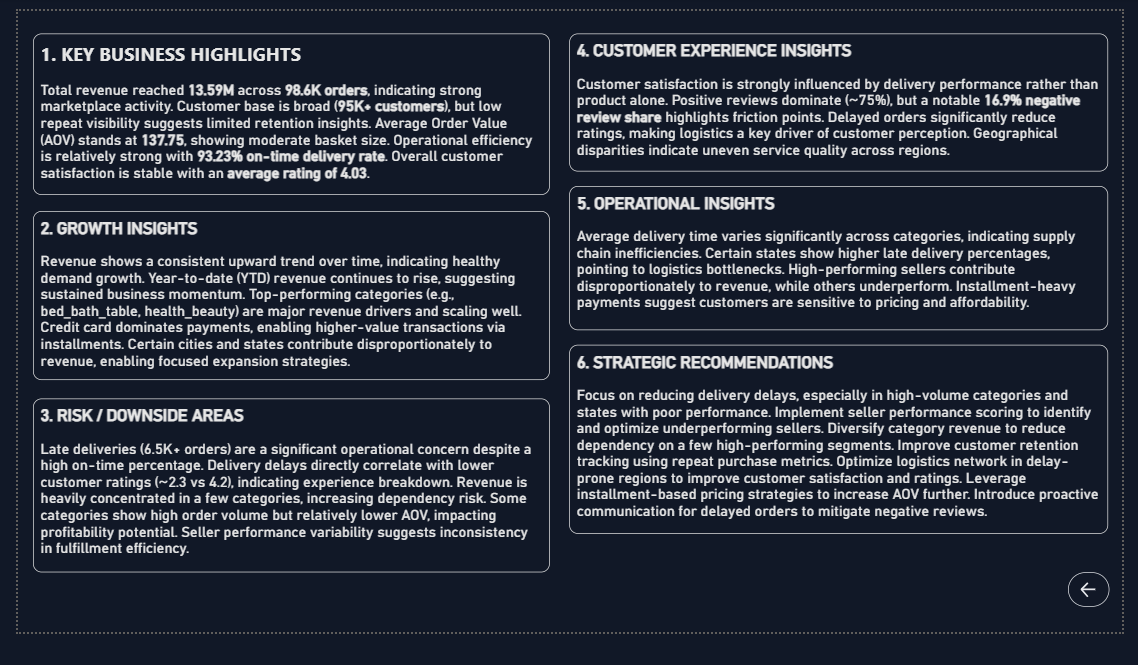

The dashboard page shown, as its layout file describes it:
{"tool":"powerbi","page":{"name":"Conclusion","canvas":[1280,720],"ordinal":10},"visuals":[{"type":"textbox","box":[17.1,25.7,599.2,187.1],"z":0},{"type":"textbox","box":[17.1,232.3,599.2,195.7],"z":1000},{"type":"textbox","box":[17.1,448.8,599.2,201.8],"z":2000},{"type":"textbox","box":[639.5,25.7,624.9,160.2],"z":3000},{"type":"textbox","box":[639.5,203,624.9,167.5],"z":4000},{"type":"textbox","box":[639.5,386.4,624.9,218.9],"z":5000},{"type":"actionButton","box":[1216.7,650.5,47.7,40.4],"z":6000}]}

Visuals, with their boxes on the page's 1280x720 design canvas (x1, y1, x2, y2). These are canvas units, not pixel positions in the 1138x665 screenshot, which may show the page scaled, cropped or inside an application window:
textbox: (x1=17, y1=26, x2=616, y2=213)
textbox: (x1=17, y1=232, x2=616, y2=428)
textbox: (x1=17, y1=449, x2=616, y2=651)
textbox: (x1=640, y1=26, x2=1264, y2=186)
textbox: (x1=640, y1=203, x2=1264, y2=370)
textbox: (x1=640, y1=386, x2=1264, y2=605)
actionButton: (x1=1217, y1=650, x2=1264, y2=691)
